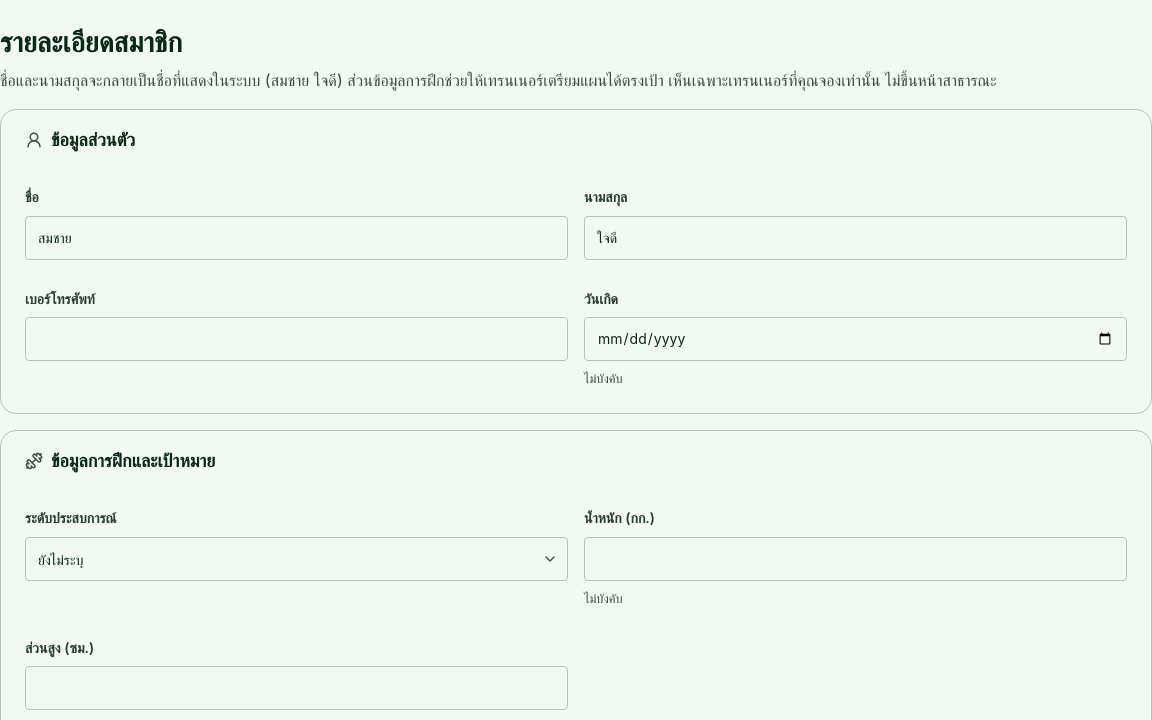
MemberProfileForm › shows the sticky save bar only after profile data changes
expect the element "การเปลี่ยนแปลงที่ยังไม่บันทึก" is not shown: met
expect the button "บันทึกข้อมูลสมาชิก" is not shown: met
Type "0812345678" into the field labelled "เบอร์โทรศัพท์" at {"x": 296, "y": 340}, box [25,318,568,362]
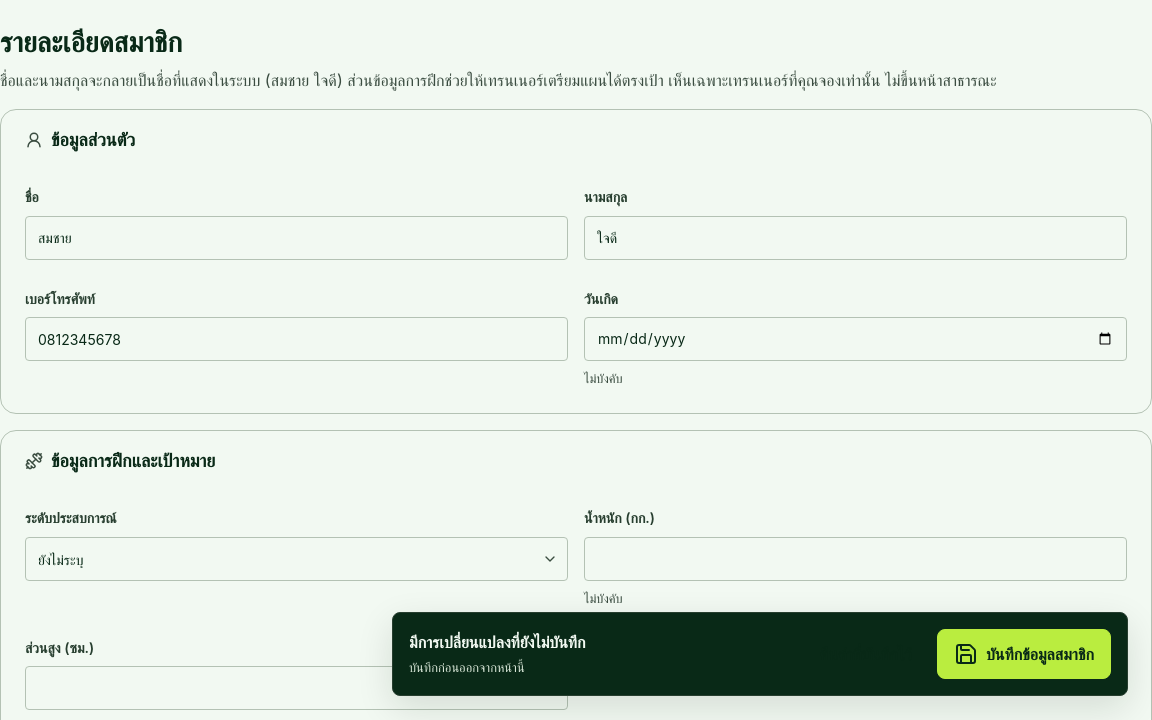
expect the element "การเปลี่ยนแปลงที่ยังไม่บันทึก" is shown: met, box [392,612,1128,696]
expect the button "บันทึกข้อมูลสมาชิก" is shown: met, box [937,629,1111,679]
